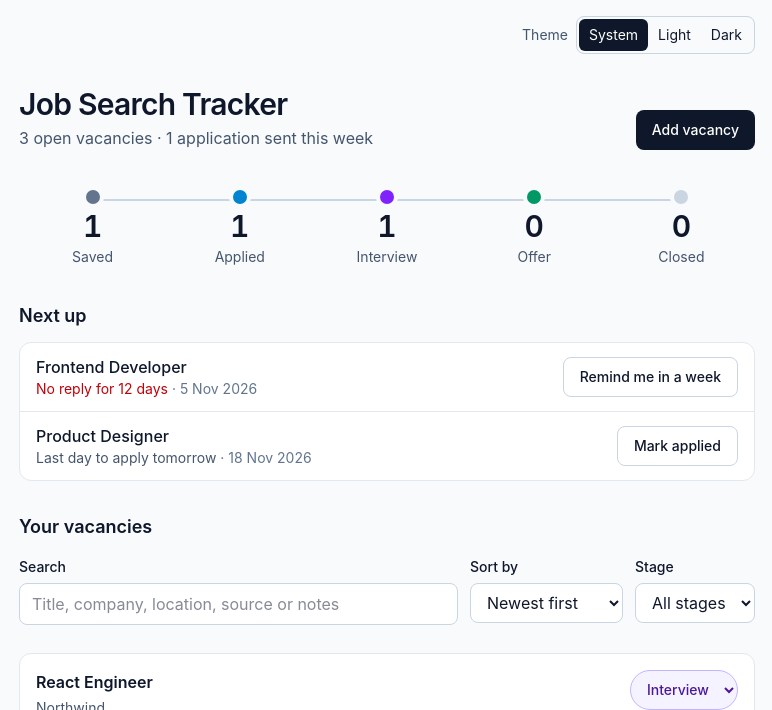
Test case: JobsPage overview › searches, shows the count and clears the search
In the search field labelled "Search": (238, 604) [19,582,458,624], type "berlin"
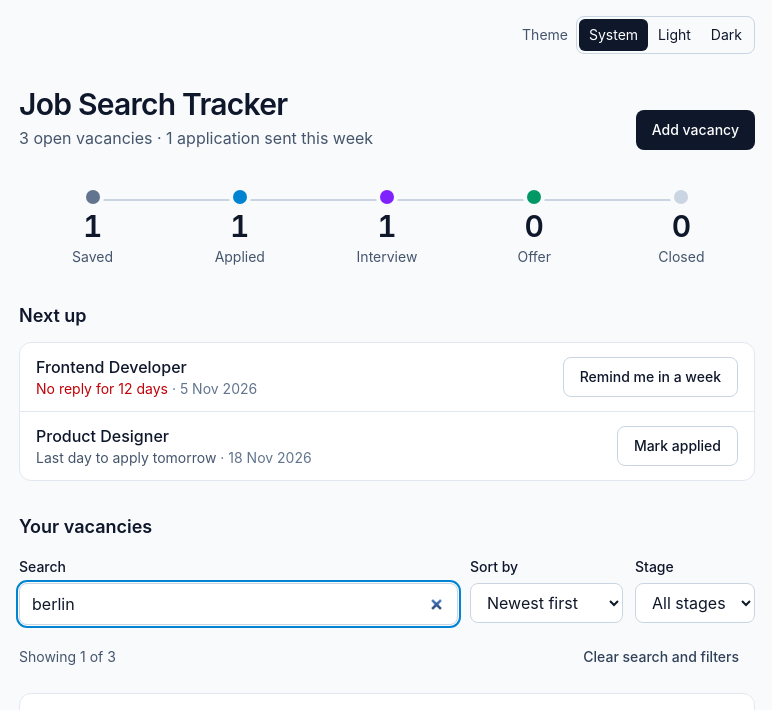
Click the button "Clear search and filters": (661, 656) [567,636,755,676]
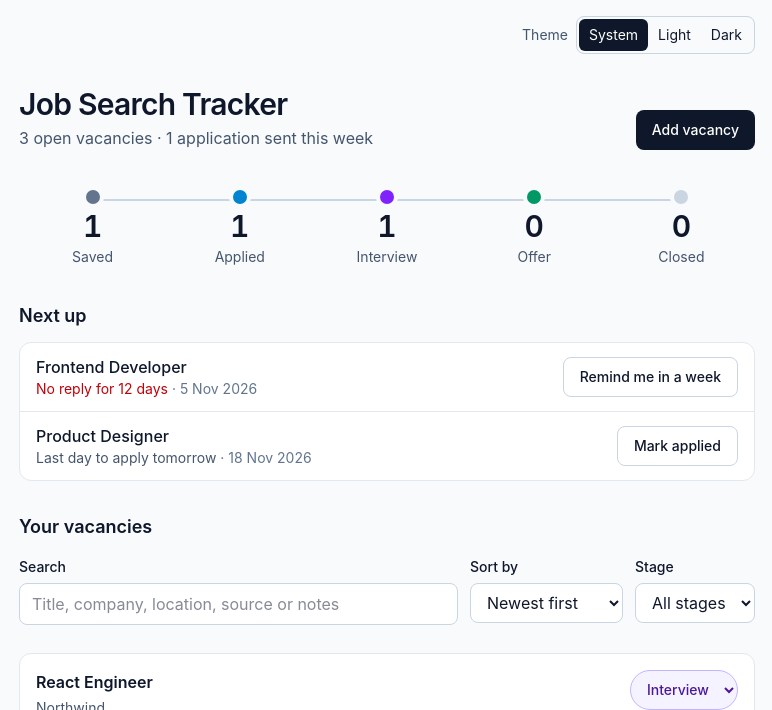
Expected: the search field labelled "Search" is empty, [19,582,458,624]
